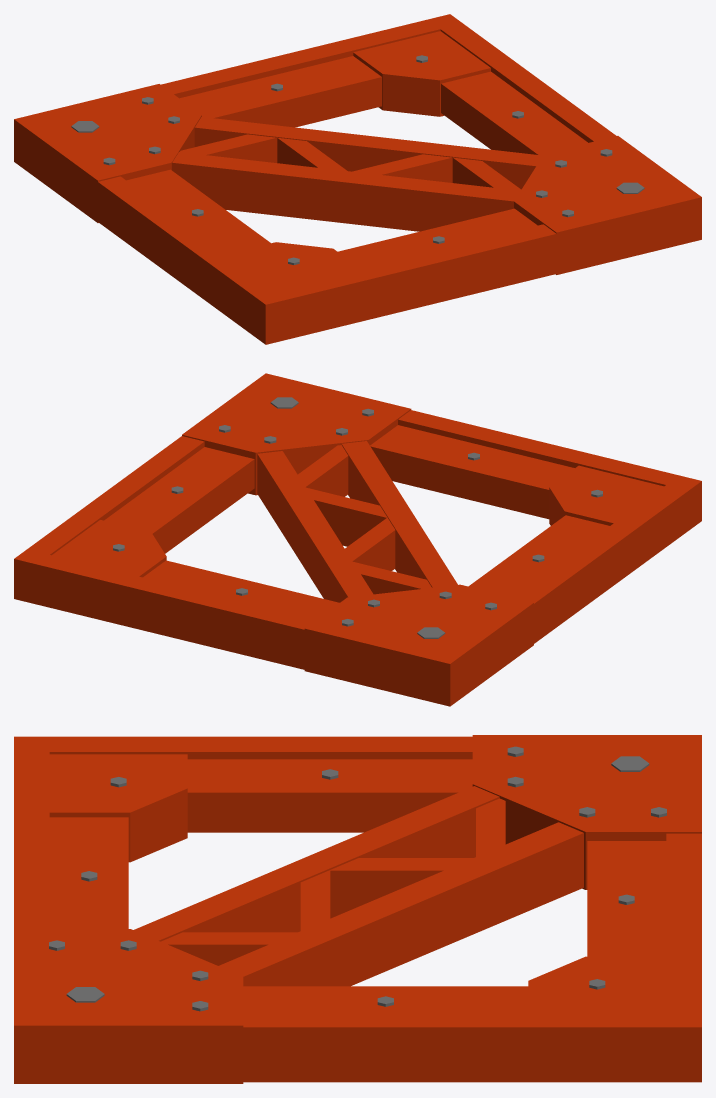
The model's file is Prop_Industrial_Beams_Brace_02.FBX.
3 renders of one model, top to bottom at view 1: azimuth 30°, elevation 25°; view 2: azimuth 150°, elevation 25°; view 3: azimuth 270°, elevation 25°, orthographic. The views are drawn at different scales.
Visible parts, largest first — view 1: Prop_Industrial_Beams_Brace_02; view 2: Prop_Industrial_Beams_Brace_02; view 3: Prop_Industrial_Beams_Brace_02.
Boxes of the visible parts, <box> form: Prop_Industrial_Beams_Brace_02: <box>14,14,701,344</box>; Prop_Industrial_Beams_Brace_02: <box>14,373,701,706</box>; Prop_Industrial_Beams_Brace_02: <box>14,735,701,1083</box>.
Size of the model in its own units: 3000 by 307 by 3000.
